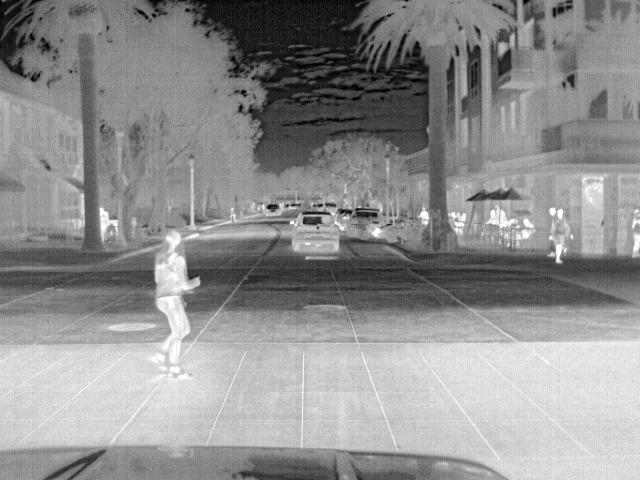car: (289, 209, 341, 258), (346, 207, 385, 237), (319, 198, 338, 214), (264, 204, 284, 218)
person: (150, 228, 202, 382), (548, 206, 575, 262), (96, 204, 113, 244), (627, 207, 639, 257), (545, 205, 558, 231), (417, 205, 430, 228), (483, 207, 499, 224), (226, 205, 238, 224), (518, 216, 534, 228)
